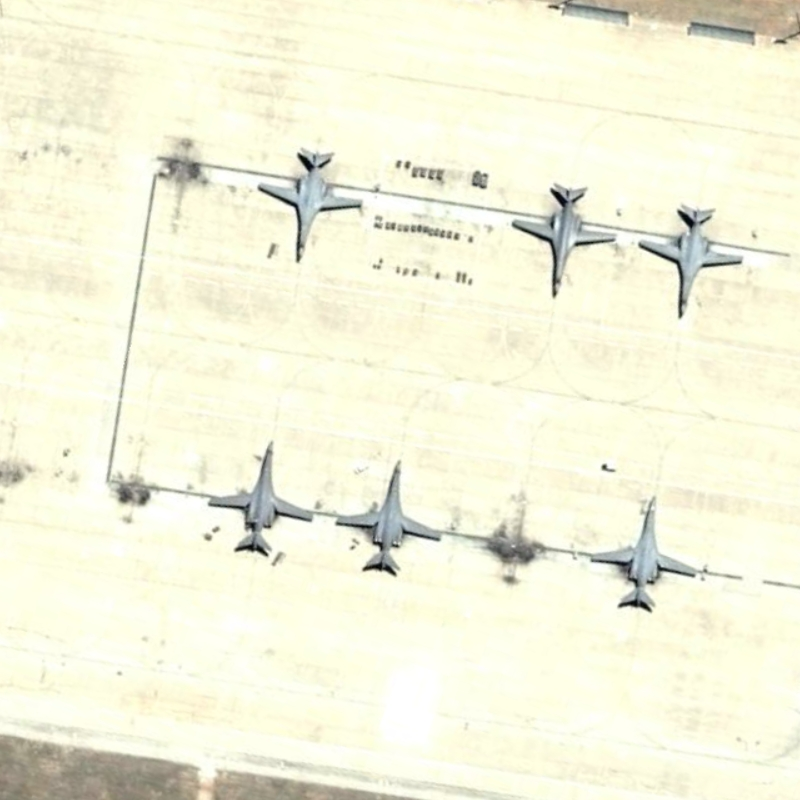A10: (586, 491, 704, 614), (506, 180, 619, 303), (332, 456, 445, 578), (206, 435, 316, 559), (254, 144, 369, 261), (635, 199, 743, 323)
